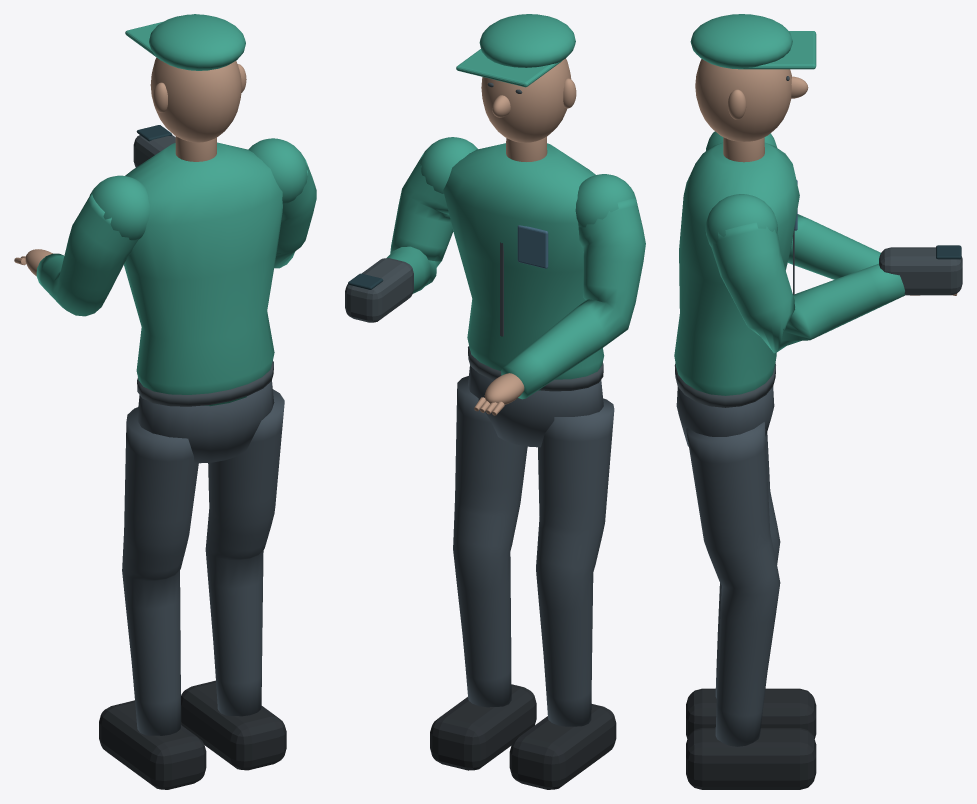
Rendered from warehouse-worker.glb.
The picture shows the model from 3 angles, left to right: view 1: azimuth 30°, elevation 25°; view 2: azimuth 150°, elevation 25°; view 3: azimuth 270°, elevation 25°; orthographic projection.
Parts seen in each view (by area): view 1: Warehouse | tailored torso, Warehouse | trouser leg, Warehouse | trouser leg.001, Warehouse | work sleeve, Warehouse | pelvis, Warehouse | safety boot, Warehouse | safety boot.001, Warehouse | head, Warehouse | work cap, Warehouse | shoulder, Warehouse | shoulder.001, Warehouse | work sleeve.001 (+3 smaller); view 2: Warehouse | tailored torso, Warehouse | trouser leg, Warehouse | trouser leg.001, Warehouse | work sleeve, Warehouse | safety boot, Warehouse | safety boot.001, Warehouse | work sleeve.001, Warehouse | pelvis, Warehouse | head, Warehouse | work cap, Warehouse | barcode scanner, Warehouse | shoulder (+6 smaller); view 3: Warehouse | trouser leg.001, Warehouse | tailored torso, Warehouse | work sleeve.001, Warehouse | safety boot.001, Warehouse | head, Warehouse | work cap, Warehouse | work sleeve, Warehouse | safety boot, Warehouse | barcode scanner, Warehouse | pelvis, Warehouse | shoulder.001, Warehouse | cap brim (+3 smaller).
Part boxes in pixels (x1,y1,x2,y2): Warehouse | tailored torso: (124,142,282,406); Warehouse | trouser leg: (122,407,198,735); Warehouse | trouser leg.001: (205,389,284,716); Warehouse | work sleeve: (36,194,138,316); Warehouse | pelvis: (137,380,274,463); Warehouse | safety boot: (99,700,206,789); Warehouse | safety boot.001: (181,680,286,770); Warehouse | head: (150,57,241,142); Warehouse | work cap: (149,14,245,70); Warehouse | shoulder: (89,175,149,240); Warehouse | shoulder.001: (248,138,307,204); Warehouse | work sleeve.001: (274,157,316,268); Warehouse | tailored torso: (443,143,604,390); Warehouse | trouser leg: (536,398,614,726); Warehouse | trouser leg.001: (453,376,527,707); Warehouse | work sleeve: (501,198,645,399); Warehouse | safety boot: (509,704,616,789); Warehouse | safety boot.001: (430,684,536,770); Warehouse | work sleeve.001: (386,153,453,293); Warehouse | pelvis: (468,366,603,447); Warehouse | head: (481,58,571,142); Warehouse | work cap: (479,14,575,67); Warehouse | barcode scanner: (345,258,413,322); Warehouse | shoulder: (575,174,636,227); Warehouse | trouser leg.001: (686,422,780,746); Warehouse | tailored torso: (674,143,799,395); Warehouse | work sleeve.001: (711,222,905,353); Warehouse | safety boot.001: (686,728,816,789); Warehouse | head: (695,59,791,141); Warehouse | work cap: (690,14,792,69); Warehouse | work sleeve: (787,214,880,279); Warehouse | safety boot: (686,688,816,738); Warehouse | barcode scanner: (879,247,962,295); Warehouse | pelvis: (676,387,774,446); Warehouse | shoulder.001: (705,194,777,247); Warehouse | cap brim: (743,31,816,69).
Bounding box in the file's own units: 0.5989 × 1.76 × 0.62.
